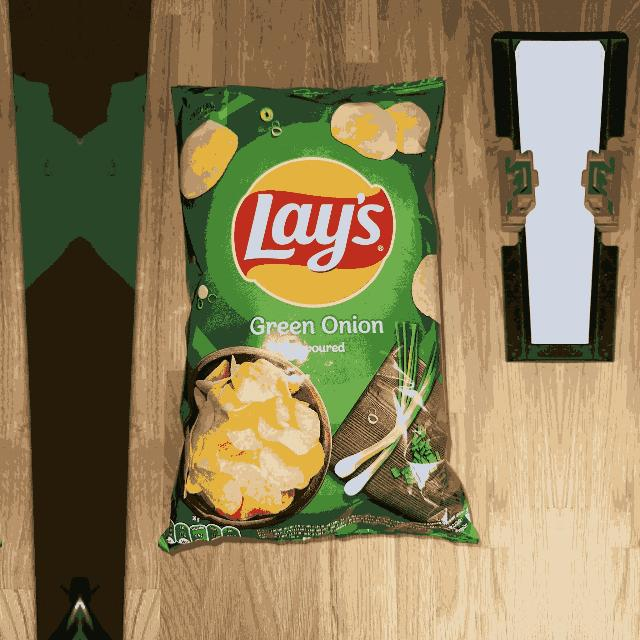lays: (232, 158, 397, 309)
